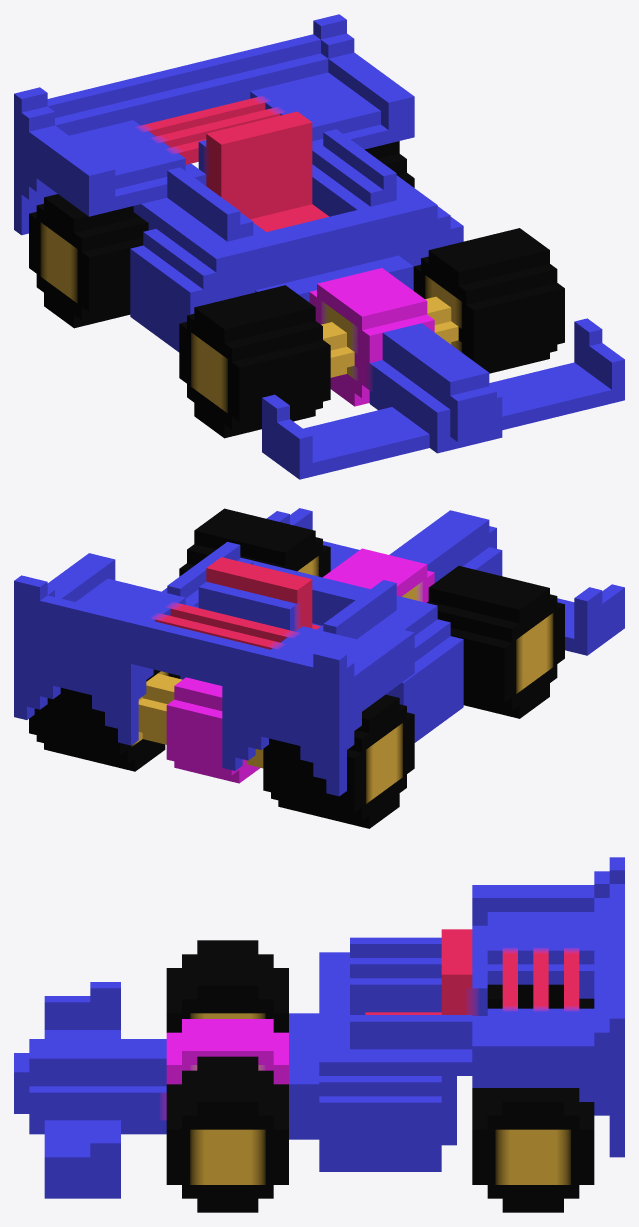
File: Car_34.fbx
3 views of the same model, one above another, from view 1: azimuth 30°, elevation 25°; view 2: azimuth 150°, elevation 25°; view 3: azimuth 270°, elevation 25° (orthographic).
Parts seen in each view (by area): view 1: Car_34; view 2: Car_34; view 3: Car_34.
Boxes of the visible parts, box(x1,y1,x2,y2) form: Car_34: box(14, 14, 624, 479); Car_34: box(14, 508, 624, 828); Car_34: box(14, 857, 624, 1212).
Bounding box in the file's own units: 25 × 14 × 40.
Materials: 1 (1 with a texture image).
